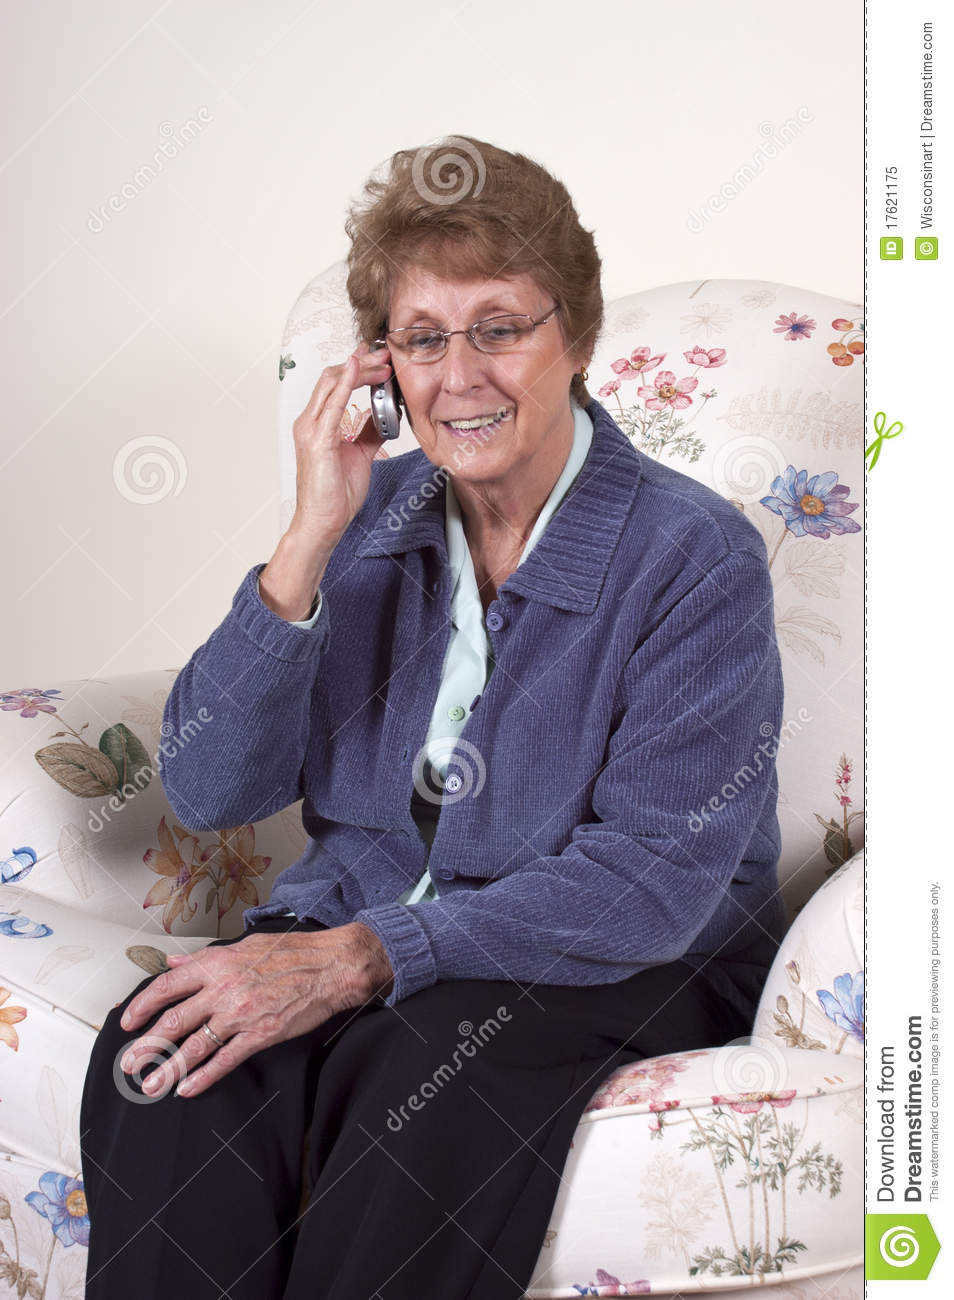phone: (362, 309, 410, 444)
talk: (289, 284, 540, 563)
